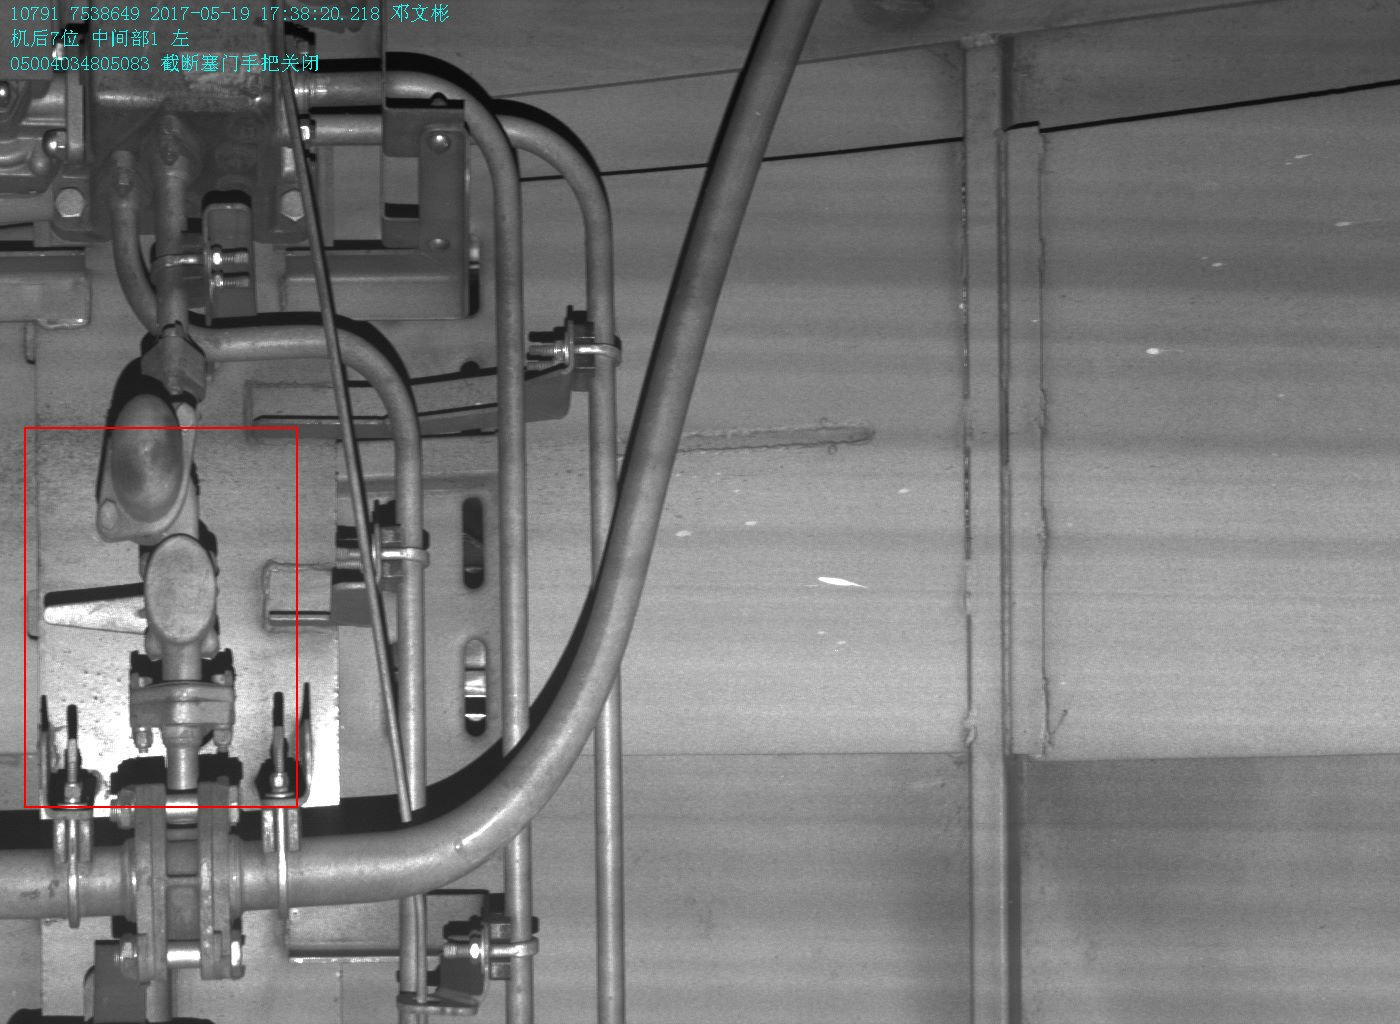truncated plug door handle: (43, 534, 232, 661)
